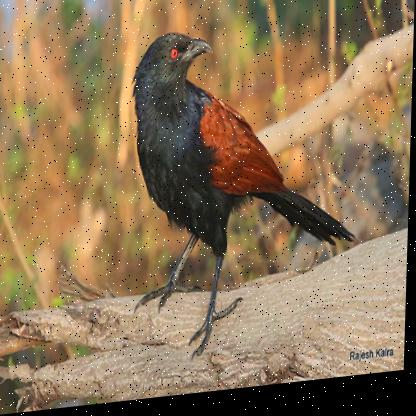Burung: (125, 19, 364, 370)
